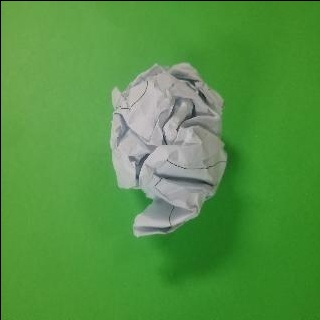8/可回收垃圾/纸: (108, 61, 227, 237)
